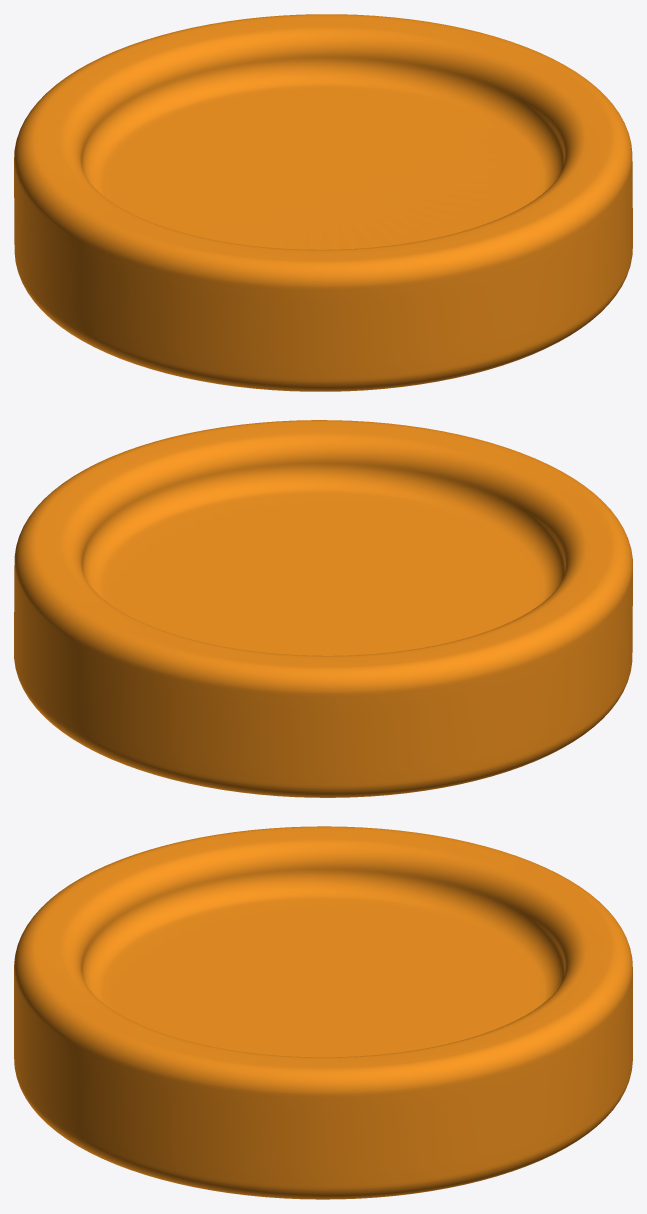
The model's file is koin1.fbx.
3 renders of one model, top to bottom at view 1: azimuth 30°, elevation 25°; view 2: azimuth 150°, elevation 25°; view 3: azimuth 270°, elevation 25°, orthographic.
Visible parts, largest first — view 1: Koin1; view 2: Koin1; view 3: Koin1.
Boxes of the visible parts, x1,y1,x2,y2 form: Koin1: [14, 14, 632, 391]; Koin1: [14, 420, 632, 797]; Koin1: [14, 826, 632, 1199].
Size of the model in its own units: 200 by 47.01 by 199.
